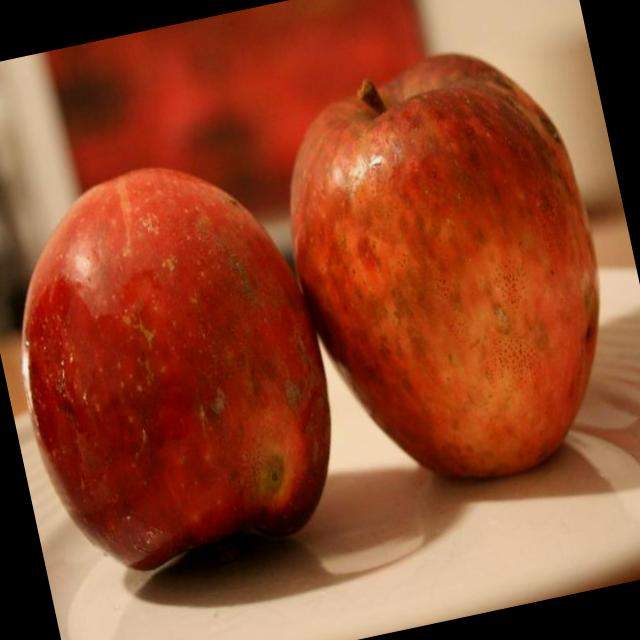Apple: (257, 29, 638, 510), (0, 137, 358, 589)
